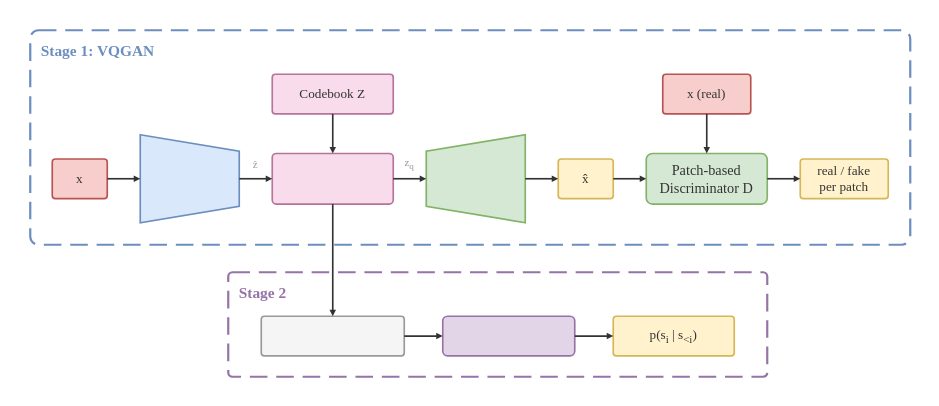
This 939x406 diagram has some shape labels left out. Each missing label, with the centre of its shape:
"CNN Decoder G" goes at point 475,178.
"CNN Encoder E" goes at point 189,178.
"Code indices s h x w, raster order" goes at point 332,335.
"Quantization q(·)" goes at point 332,178.
"Transformer (autoregressive)" goes at point 508,335.
